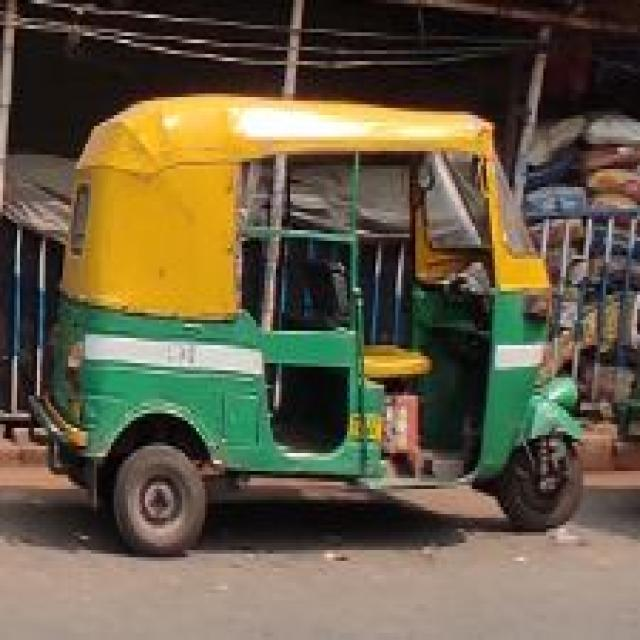autorickshaw: (42, 86, 588, 564)
